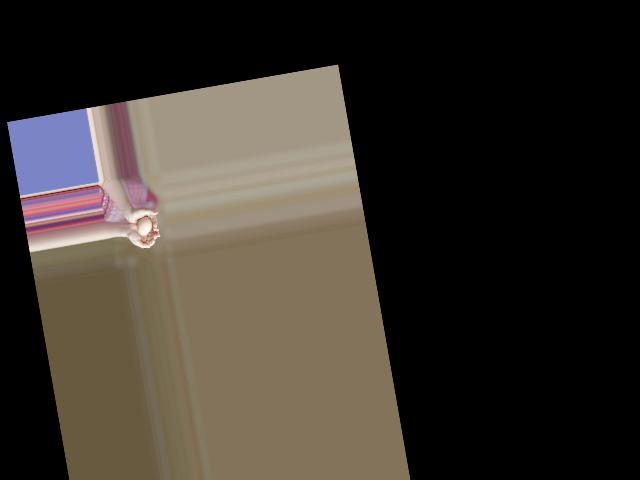egg: (136, 215, 154, 235)
